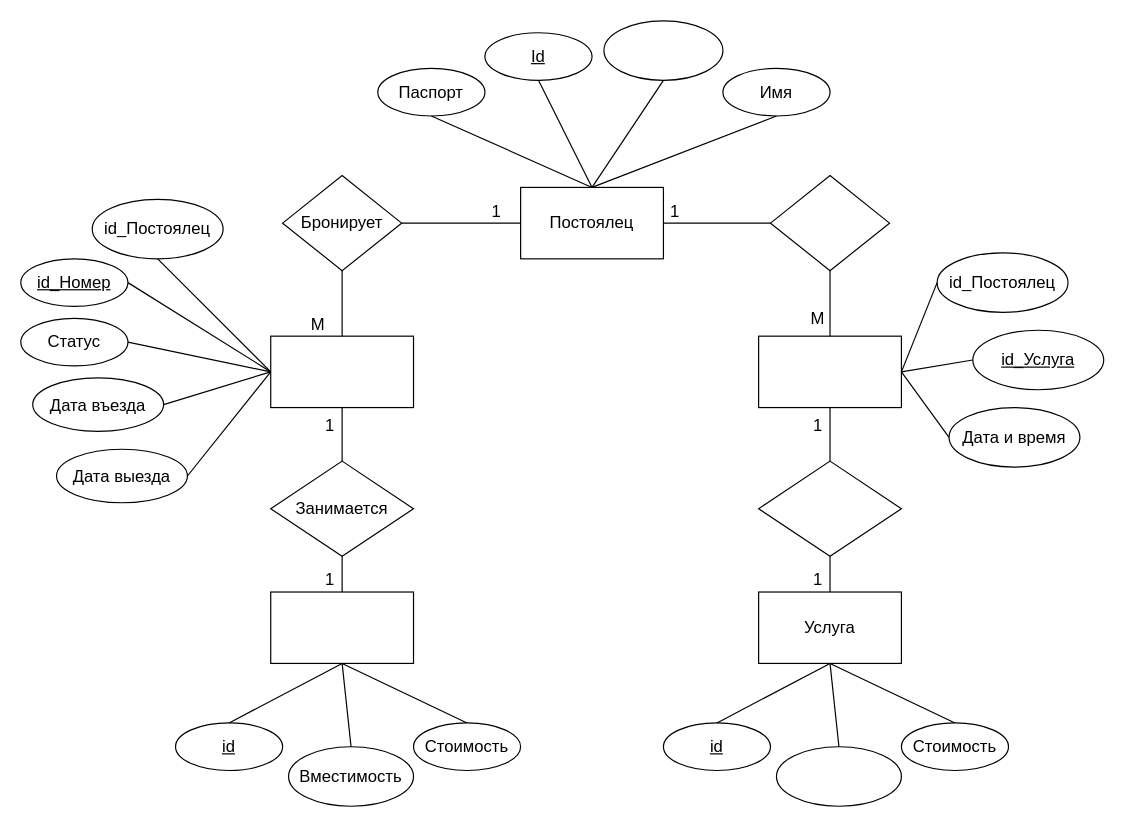
The diagram is 1125 pixels wide and 827 high, and some of its shapes have lost their labels. The box of each missing label's shape, as (x1, y1, x2, y2) in pixels:
Бронь: (270, 335, 414, 408)
Заказ: (757, 335, 901, 408)
Закрепляется: (757, 460, 901, 556)
Номер: (270, 591, 414, 663)
Описание: (775, 746, 901, 806)
Совершает: (769, 174, 890, 271)
Телефон: (603, 20, 723, 80)
